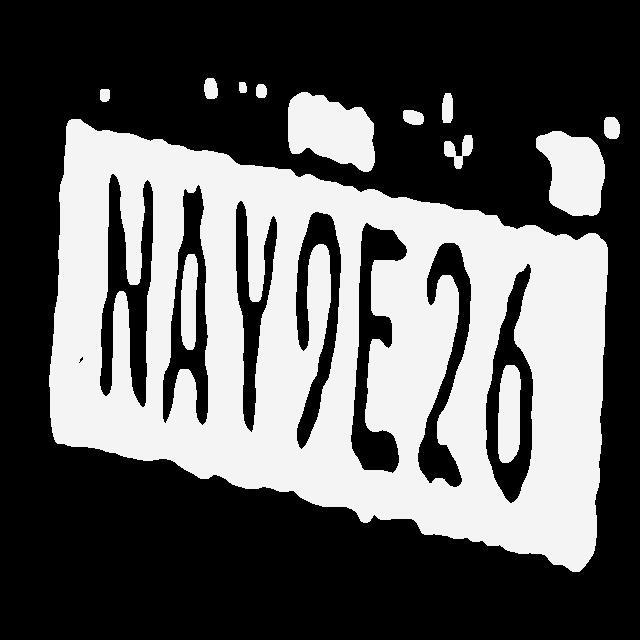2: (414, 235, 480, 495)
6: (481, 254, 538, 507)
9: (288, 206, 348, 453)
a: (158, 176, 218, 434)
e: (352, 218, 409, 482)
h: (96, 165, 160, 419)
y: (226, 196, 284, 437)
